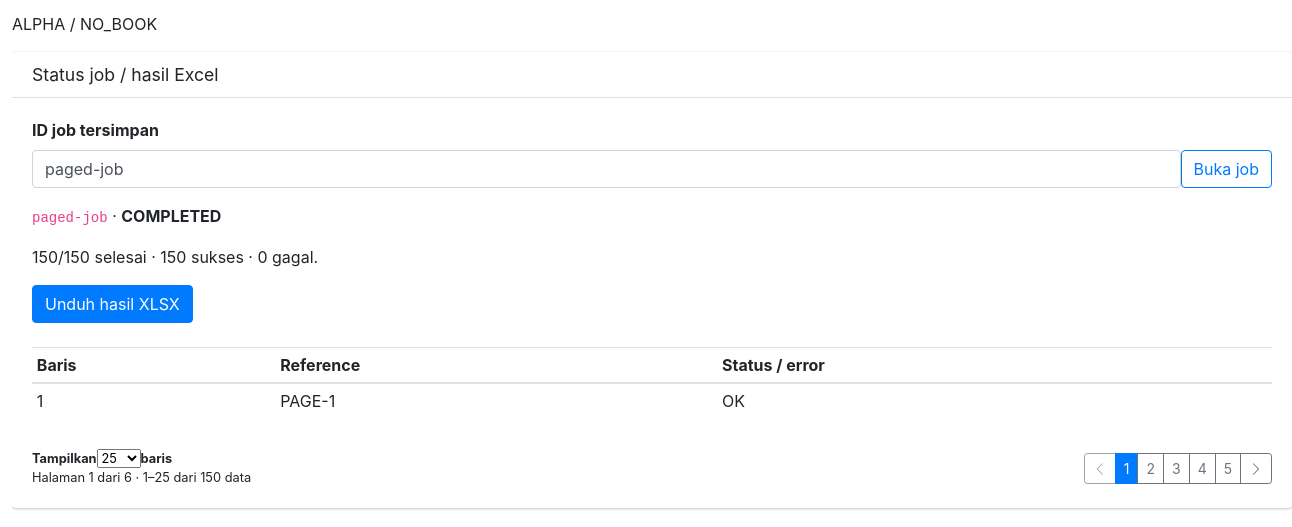
it: operational API interactions › job table sends page size and resets the page on size change
Expected: the text "PAGE-1" is shown, [275, 383, 717, 417]
Step 1. Click the button "2" → point(1151, 468), box [1137, 453, 1164, 484]
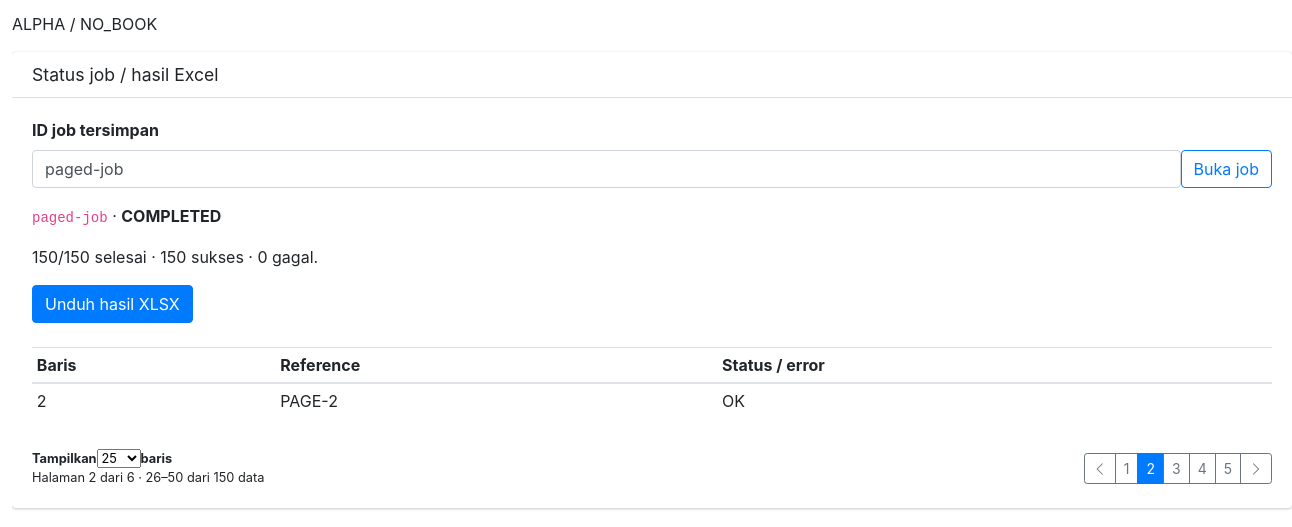
Now the text "PAGE-2" is shown, box [275, 383, 717, 417]
Step 2. Select "50" in the dropdown labelled "Tampilkan baris" → point(118, 459), box [96, 449, 140, 468]
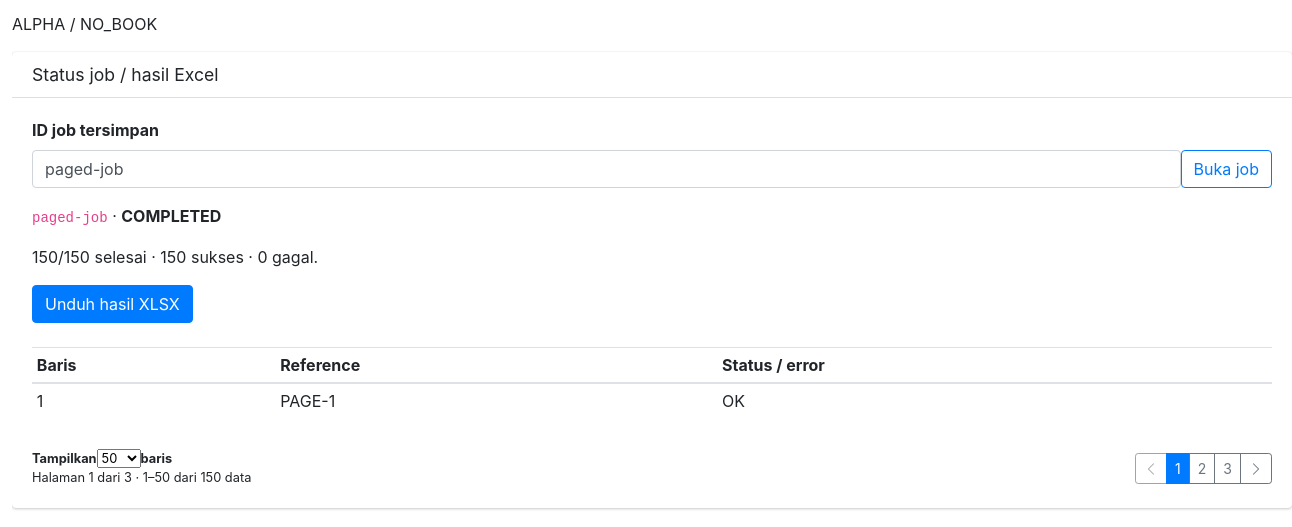
Now the text "Halaman 1 dari 3 · 1–50 dari 150 data" is shown, box [32, 468, 251, 488]
Step 3. Click the button named "Halaman 3 hasil job" → point(1228, 468), box [1214, 453, 1241, 484]
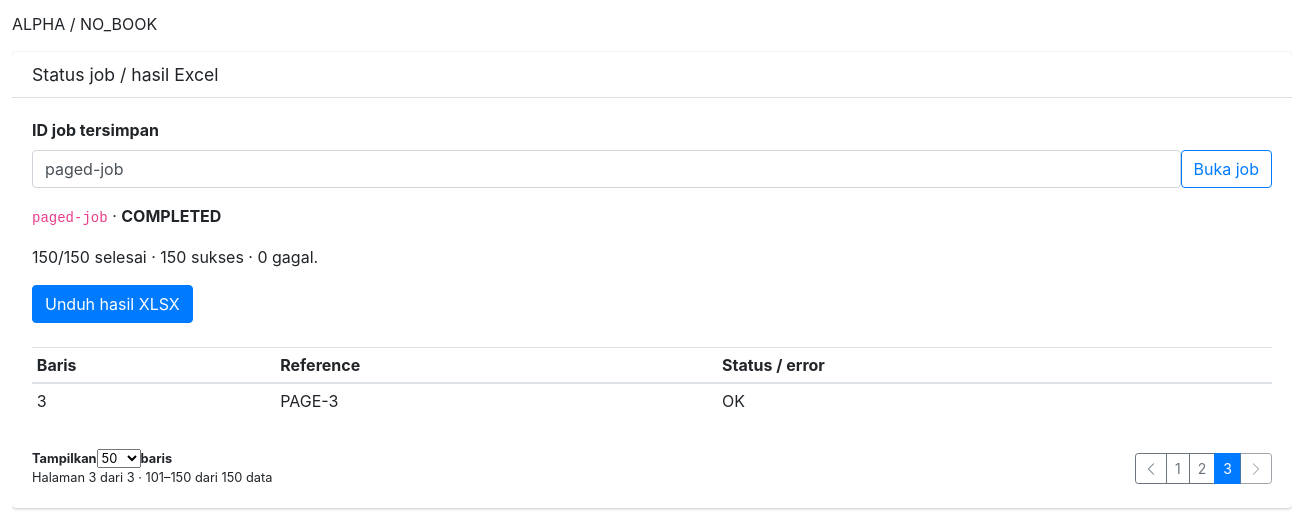
Now the text "PAGE-3" is shown, box [275, 383, 717, 417]
